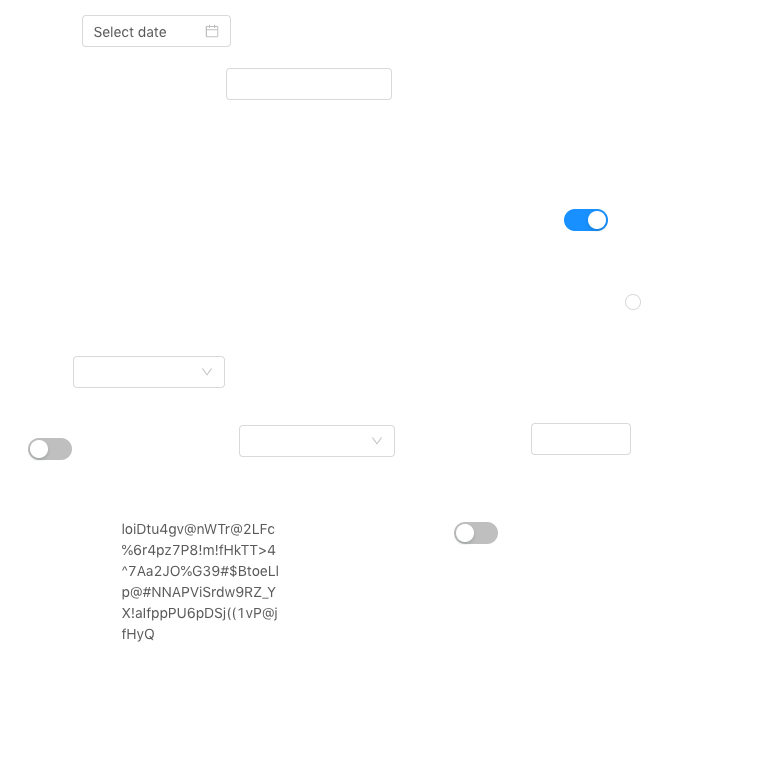DatePicker: (82, 15, 231, 47)
Input: (226, 68, 392, 100), (531, 423, 631, 455)
Radio: (625, 291, 641, 311)
Select: (239, 425, 395, 457), (73, 356, 225, 388)
Switch: (454, 521, 498, 545), (28, 437, 72, 461), (564, 208, 608, 232)
Text: (122, 518, 281, 695)
